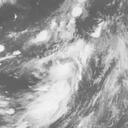cyclone: (26, 44, 81, 93)
